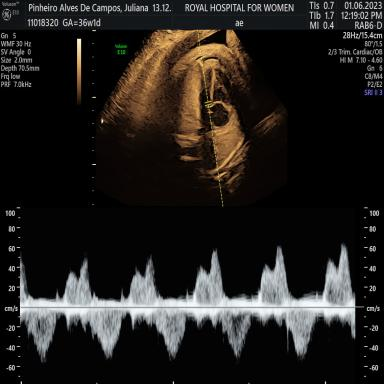Ultrasound-Waves: (23, 216, 354, 383)
